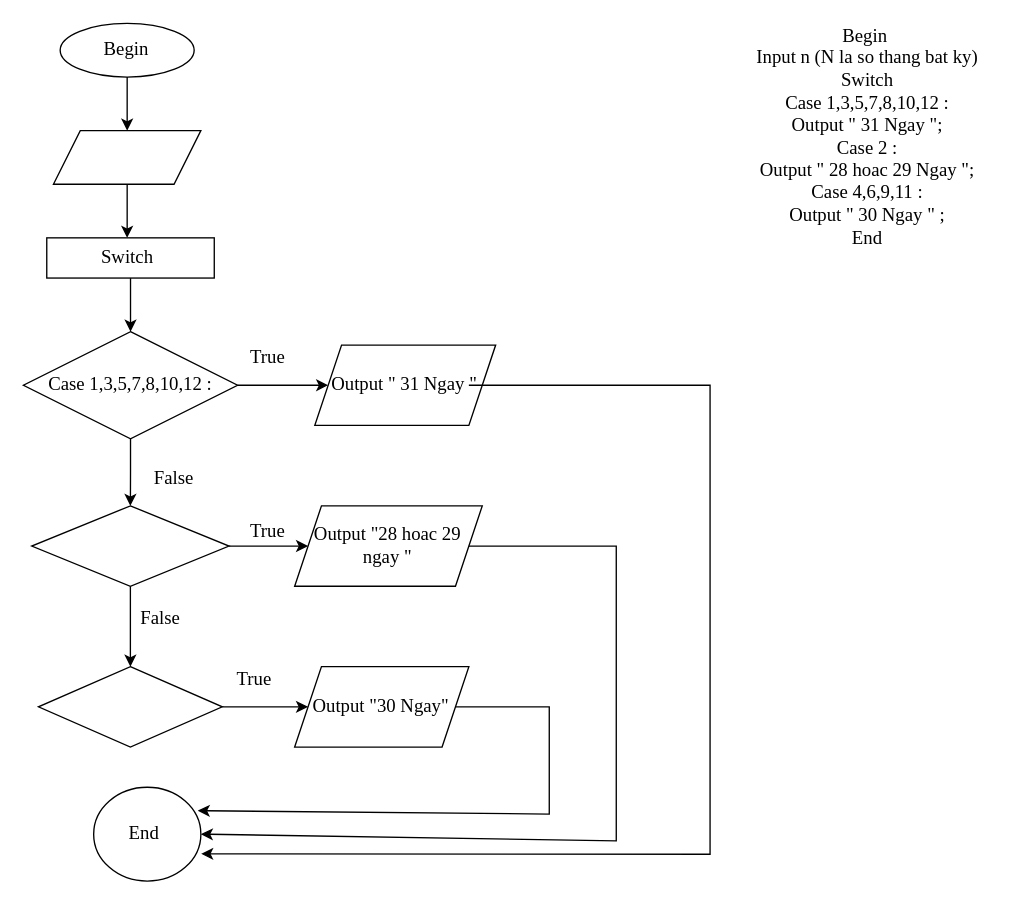
Some shapes in this 1025 by 905 pixel diagram are drawn without their labels. Each missing label, with the centre of its shape:
"Case 2 :" goes at [129,545].
"Case 4,6,9,11 :" goes at [129,706].
"Input n" goes at [126,156].
